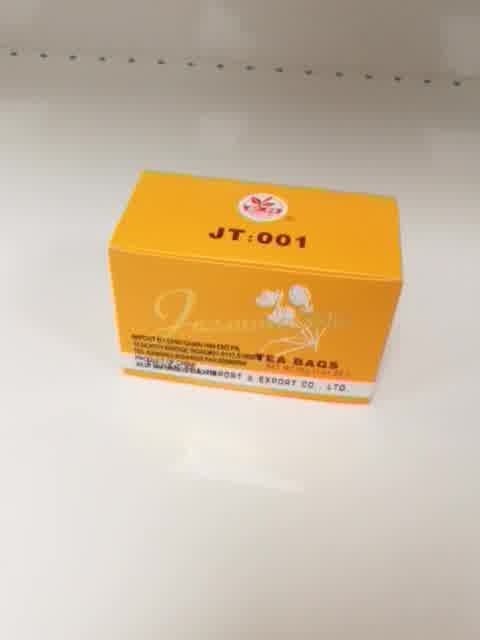jasminetea: (107, 169, 403, 408)
